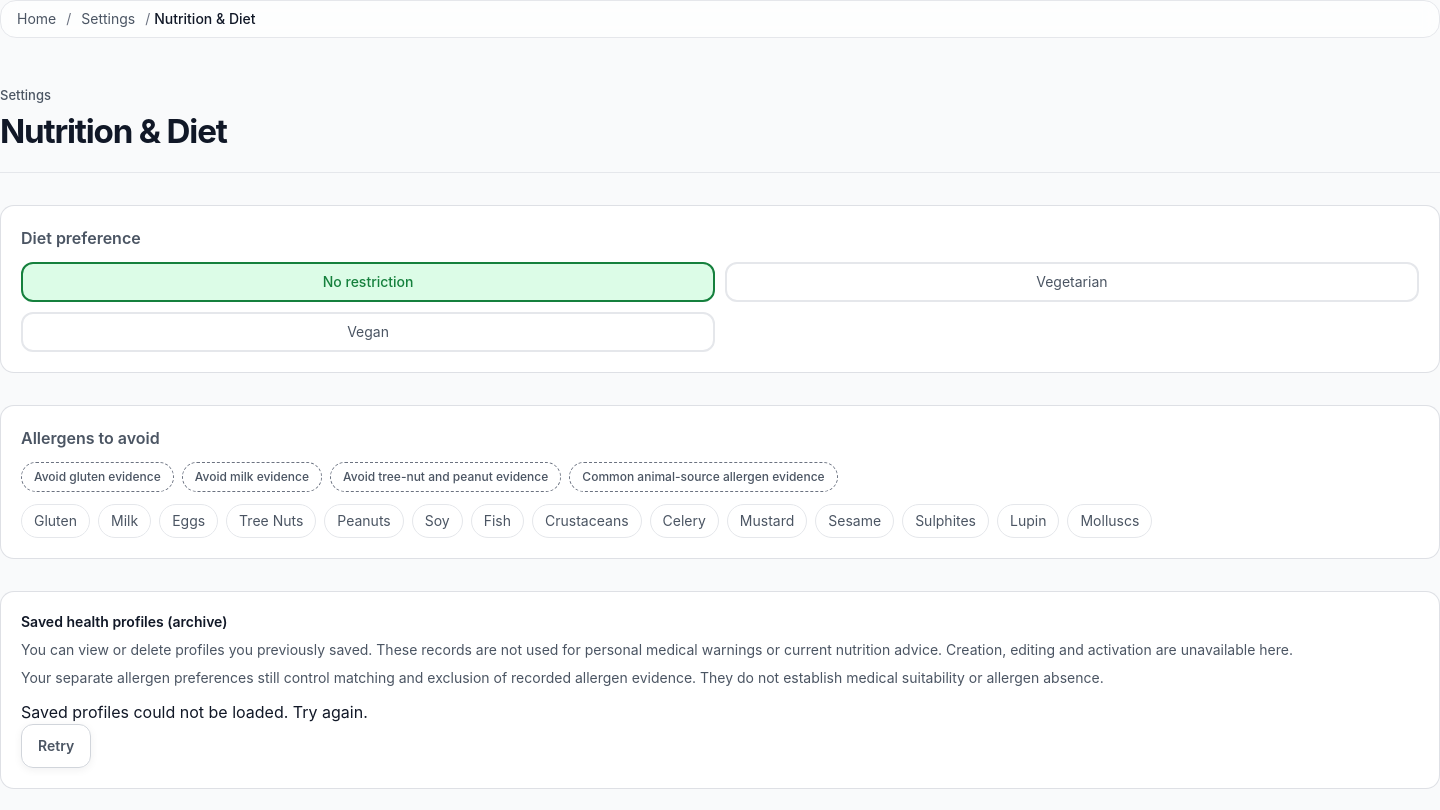
Test case: NutritionSettingsPage › shows save button after changing diet
Step 1. Click the button "Vegetarian" → (1072, 282), box [725, 262, 1419, 302]
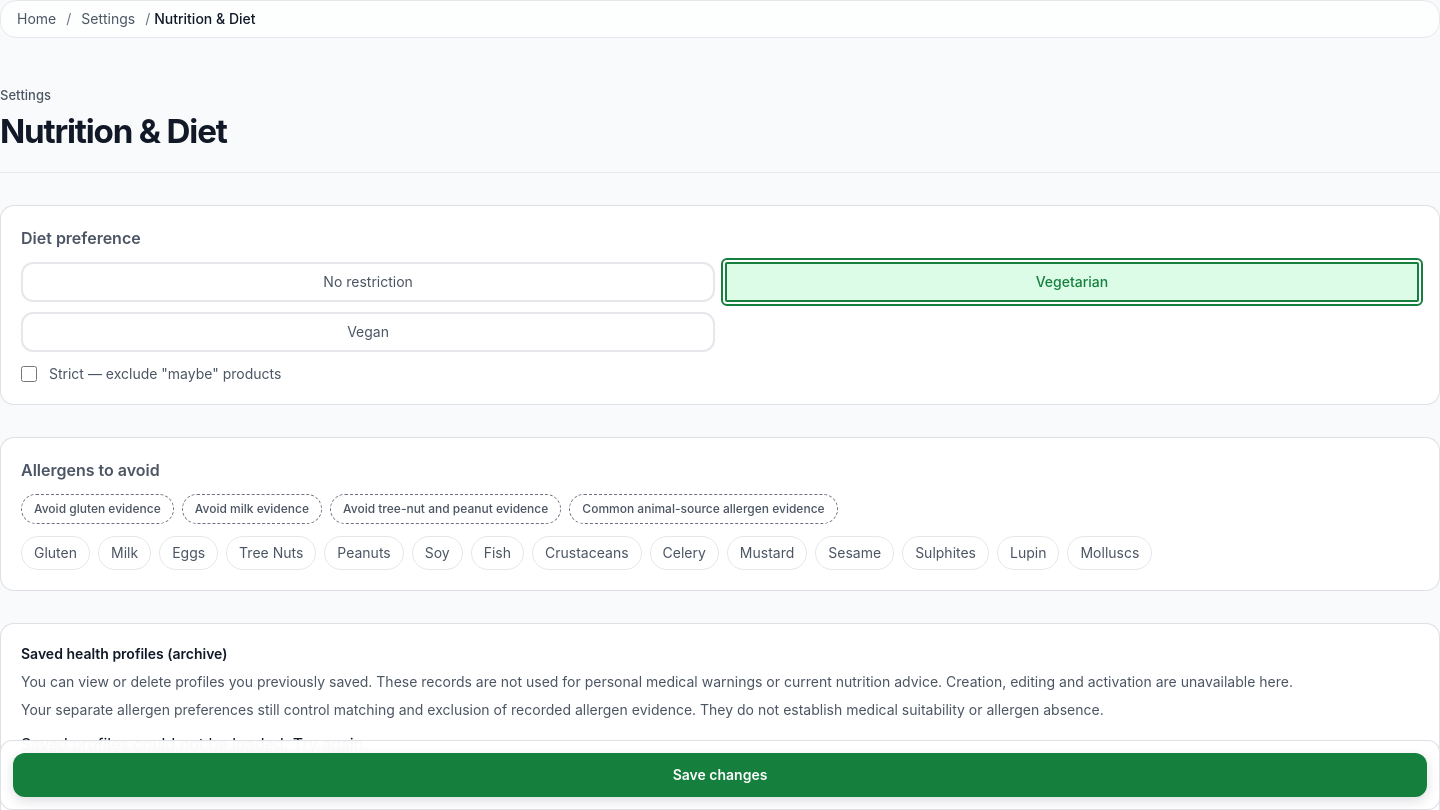
Now the button "Save changes" is shown, box [13, 753, 1427, 797]
